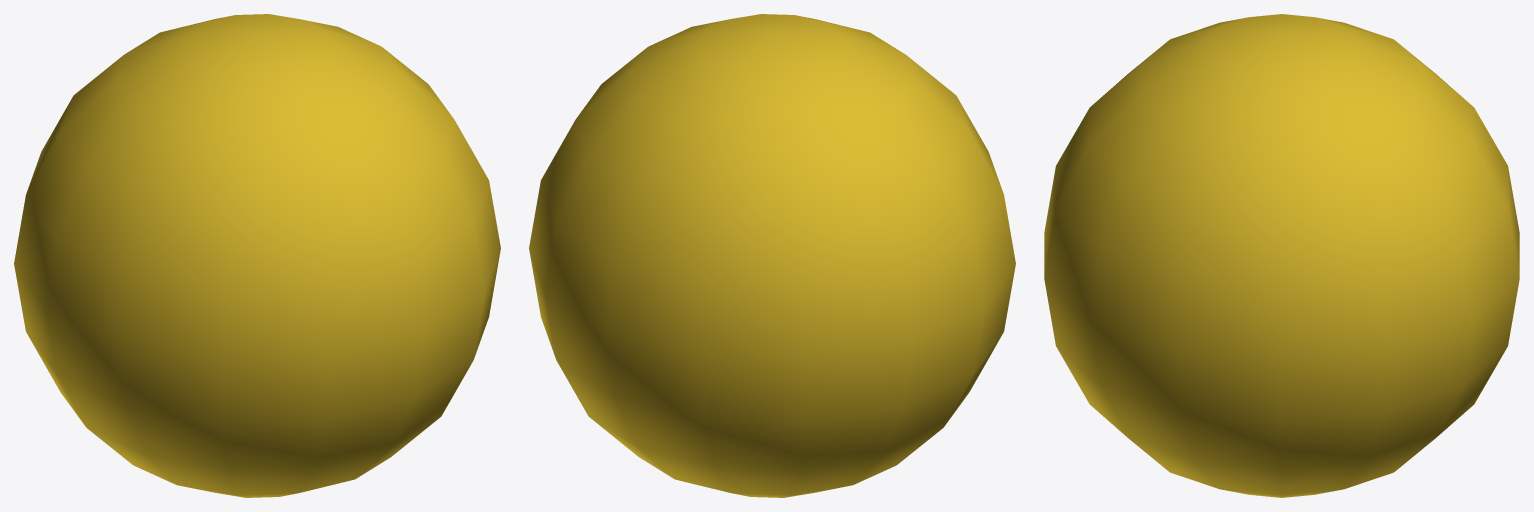
Rendered from floorBall.glb.
3 views of the same model, side by side, from view 1: azimuth 30°, elevation 25°; view 2: azimuth 150°, elevation 25°; view 3: azimuth 270°, elevation 25° (orthographic).
Parts seen in each view (by area): view 1: sample_0; view 2: sample_0; view 3: sample_0.
Part boxes in pixels (x1,y1,x2,y2): sample_0: (14,14,500,497); sample_0: (529,14,1015,497); sample_0: (1044,14,1519,497).
Bounding box in the file's own units: 0.3001 × 0.3001 × 0.2926.
